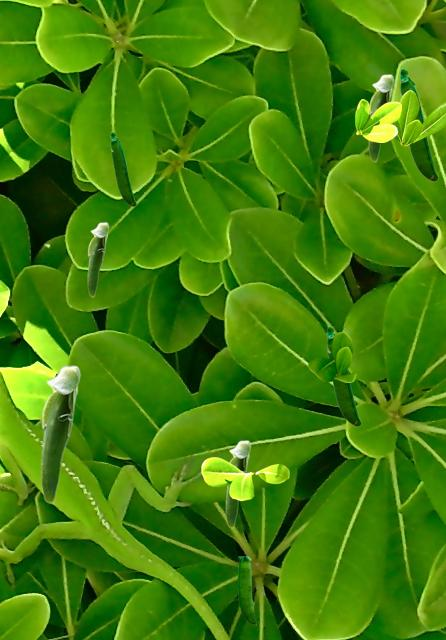pea: (40, 365, 80, 503), (399, 67, 437, 180), (326, 325, 360, 425), (368, 74, 393, 161), (225, 440, 250, 527), (110, 131, 135, 205), (87, 222, 108, 296), (238, 556, 255, 624)
